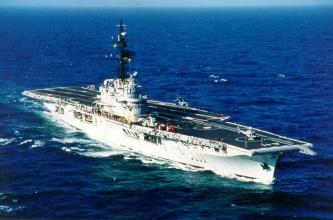warship: (22, 19, 313, 186)
